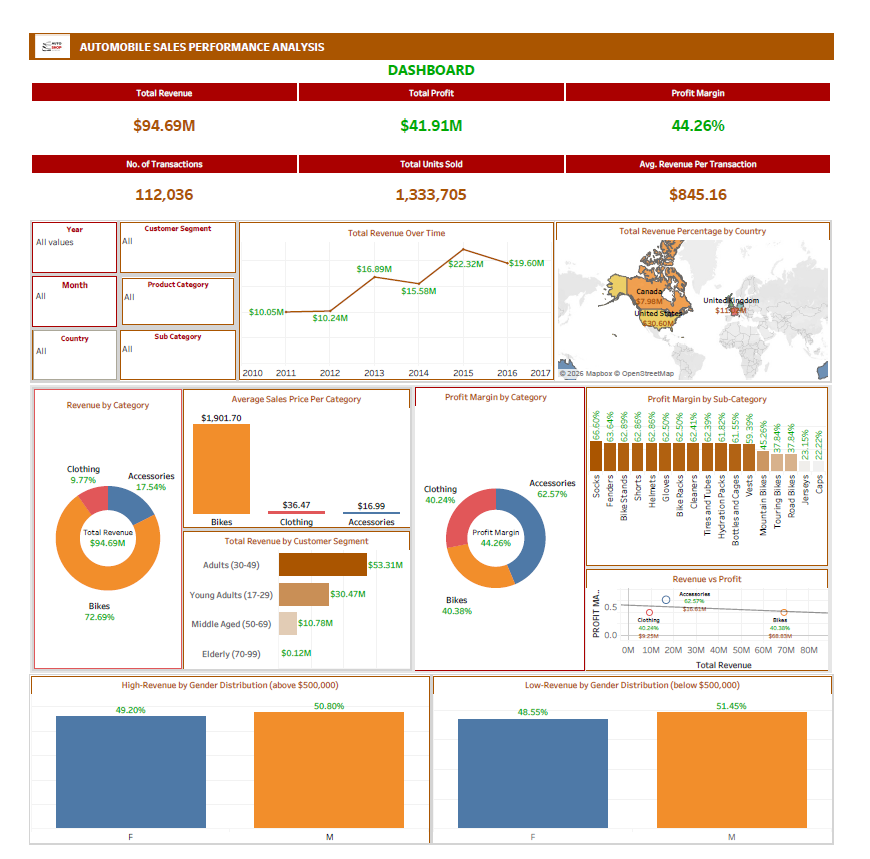

Layout of this report page (visuals, bound fields, positions):
{"tool":"tableau","page":{"name":"Dashboard 1 (2)","canvas":[1754,1769],"ordinal":0},"visuals":[{"type":"image","param":"C:/Users/user/Pictures/360_F_299134059_j7cI3ZKP7wLpbiZ7RKrr6MrANfVntlHT.jpg","box":[8,8,102,57]},{"type":"text","box":[110,8,1636,57]},{"type":"text","box":[8,65,1738,44]},{"type":"worksheet","title":"Total Revenue KPI","mark":"Automatic","box":[12,113,576.7,147]},{"type":"worksheet","title":"Total Profit KPI","mark":"Automatic","box":[588.7,113,576.7,147]},{"type":"worksheet","title":"Profit Margin KPI","mark":"Automatic","box":[1165.3,113,576.7,147]},{"type":"worksheet","title":"No.  of Transactions KPI","mark":"Automatic","box":[12,268,576.7,136]},{"type":"worksheet","title":"Unit Sold KPI","mark":"Automatic","box":[588.7,268,576.7,136]},{"type":"worksheet","title":"AVG. Revenue Per Transaction KPI","mark":"Automatic","box":[1165.3,268,576.7,136]},{"type":"filter","title":"Total Revenue Over Time","param":"[federated.0d27nl80ngdcy911479fw1omp0o5].[none:Year:qk]","box":[12,412,190,117]},{"type":"filter","title":"Profit Margin by Category","param":"[federated.0d27nl80ngdcy911479fw1omp0o5].[none:Calculation_1118018651514818560:n","box":[202,412,256,117]},{"type":"worksheet","title":"Total Revenue Over Time","mark":"Automatic","rows":["Total Revenue"],"cols":["Year"],"box":[458,412,688,350]},{"type":"worksheet","title":"Revenue % by Country (2)","mark":"Multipolygon","box":[1146,412,596,350]},{"type":"filter","title":"Total Revenue Over Time","param":"[federated.0d27nl80ngdcy911479fw1omp0o5].[none:Month:nk]","box":[12,529,190,117]},{"type":"filter","title":"Revenue by Category","param":"[federated.0d27nl80ngdcy911479fw1omp0o5].[none:Product_Category:nk]","box":[206,533,248,109]},{"type":"filter","title":"Revenue % by Country (2)","param":"[federated.0d27nl80ngdcy911479fw1omp0o5].[none:Location - Split 1:nk]","box":[12,646,190,116]},{"type":"filter","title":"Profit Margin by Category","param":"[federated.0d27nl80ngdcy911479fw1omp0o5].[none:Sub_Category:nk]","box":[202,646,256,116]},{"type":"worksheet","title":"Profit Margin by Category","mark":"Pie","rows":["Calculation_1118018651517616129","Calculation_1118018651517616129"],"box":[838,770,370,619]},{"type":"worksheet","title":"Profit Margin by Sub-Cat.","mark":"Automatic","rows":["Calculation_1118018651524763651"],"cols":["Sub_Category"],"box":[1208,770,529.7,392]},{"type":"worksheet","title":"Revenue by Category","mark":"Pie","rows":["Calculation_1118018651517616129","Calculation_1118018651517616129"],"box":[16,774,322,611]},{"type":"worksheet","title":"AVG P PER CAT.","mark":"Automatic","rows":["Unit_Price"],"cols":["Product_Category"],"box":[338,774,496,306]},{"type":"worksheet","title":"TR by Customer Segment","mark":"Automatic","rows":["Calculation_1118018651514818560"],"cols":["Total Revenue"],"box":[338,1080,496,305]},{"type":"worksheet","title":"Revenue vs Profit","mark":"Automatic","rows":["Calculation_1118018651524763651"],"cols":["Total Revenue"],"box":[1208,1162,529.7,223]},{"type":"worksheet","title":"High-Revenue by Gender Distribution (above $500,000)","mark":"Automatic","rows":["Total Revenue"],"cols":["Customer_Gender"],"box":[8,1393,869,368]},{"type":"worksheet","title":"Low-Revenue by Gender Distribution (above $500,000) (2)","mark":"Bar","rows":["Total Revenue"],"cols":["Customer_Gender"],"box":[877,1393,869,368]}]}

Visuals, with their boxes in screenshot pixels (x1, y1, x2, y2), scaled from the page's 1754x1769 canvas onto the 870x859 screenshot:
image: box(4, 4, 55, 32)
text: box(55, 4, 866, 32)
text: box(4, 32, 866, 53)
"Total Revenue KPI" worksheet: box(6, 55, 292, 126)
"Total Profit KPI" worksheet: box(292, 55, 578, 126)
"Profit Margin KPI" worksheet: box(578, 55, 864, 126)
"No.  of Transactions KPI" worksheet: box(6, 130, 292, 196)
"Unit Sold KPI" worksheet: box(292, 130, 578, 196)
"AVG. Revenue Per Transaction KPI" worksheet: box(578, 130, 864, 196)
"Total Revenue Over Time" filter: box(6, 200, 100, 257)
"Profit Margin by Category" filter: box(100, 200, 227, 257)
"Total Revenue Over Time" worksheet: box(227, 200, 568, 370)
"Revenue % by Country (2)" worksheet (Multipolygon marks): box(568, 200, 864, 370)
"Total Revenue Over Time" filter: box(6, 257, 100, 314)
"Revenue by Category" filter: box(102, 259, 225, 312)
"Revenue % by Country (2)" filter: box(6, 314, 100, 370)
"Profit Margin by Category" filter: box(100, 314, 227, 370)
"Profit Margin by Category" worksheet (Pie marks): box(416, 374, 599, 674)
"Profit Margin by Sub-Cat." worksheet: box(599, 374, 862, 564)
"Revenue by Category" worksheet (Pie marks): box(8, 376, 168, 673)
"AVG P PER CAT." worksheet: box(168, 376, 414, 524)
"TR by Customer Segment" worksheet: box(168, 524, 414, 673)
"Revenue vs Profit" worksheet: box(599, 564, 862, 673)
"High-Revenue by Gender Distribution (above $500,000)" worksheet: box(4, 676, 435, 855)
"Low-Revenue by Gender Distribution (above $500,000) (2)" worksheet (Bar marks): box(435, 676, 866, 855)
